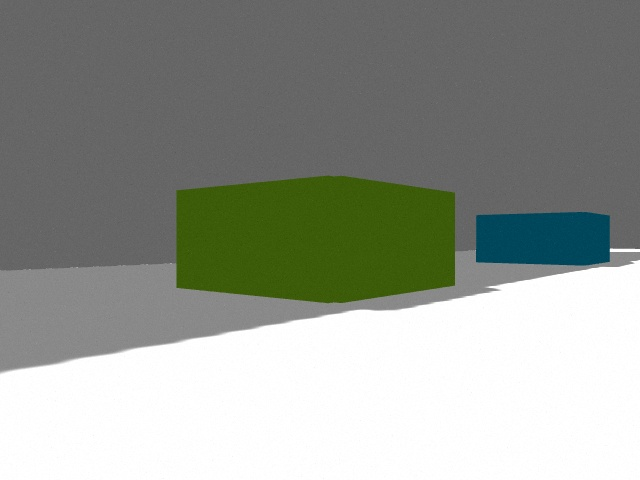blue_drop_zone: (476, 212, 610, 266)
green_drop_zone: (176, 176, 455, 303)
